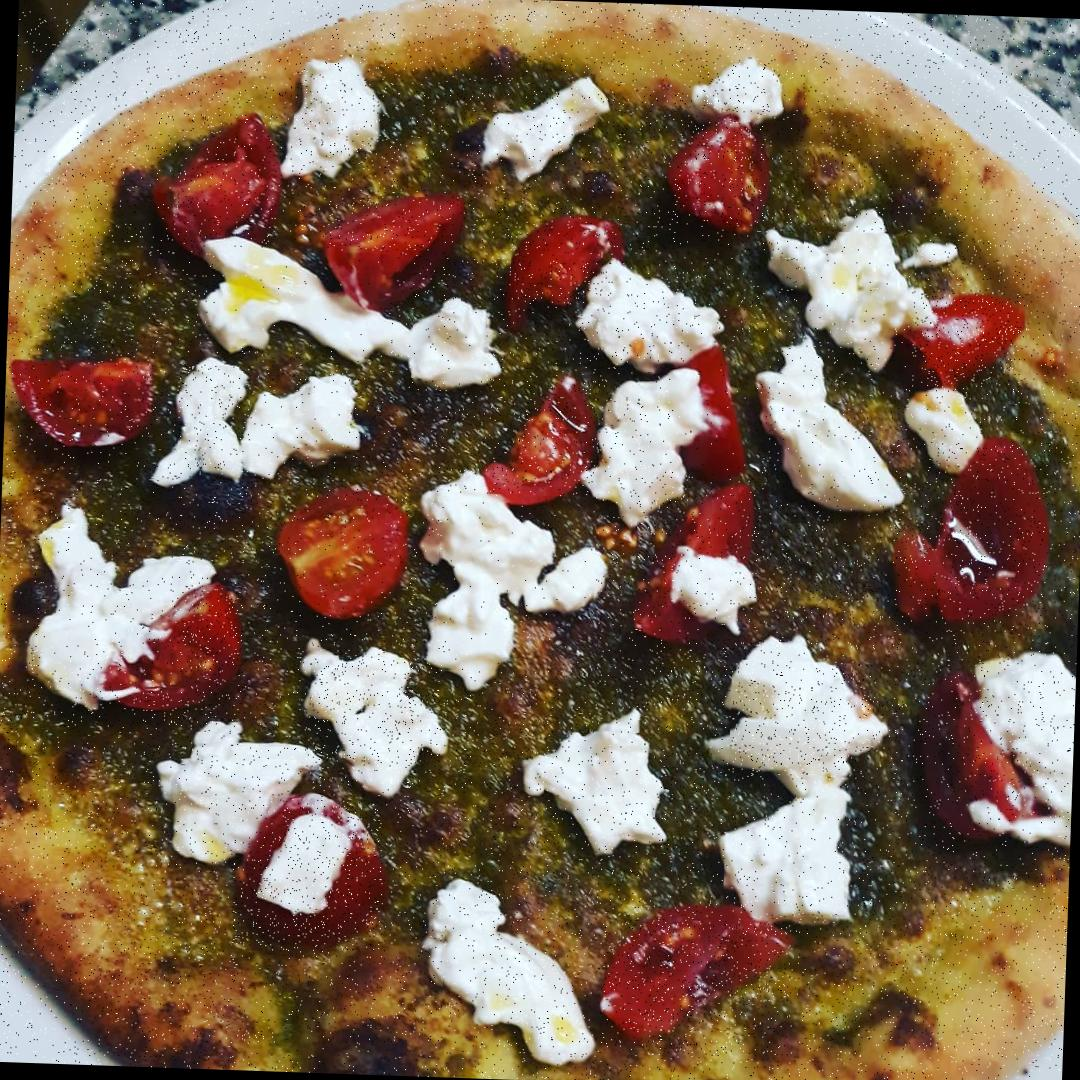Cheese: (435, 492, 597, 675), (38, 522, 186, 694), (440, 894, 576, 1056), (212, 246, 394, 356), (728, 660, 876, 780), (770, 362, 892, 503), (723, 796, 850, 917), (307, 655, 435, 773), (169, 730, 287, 854), (996, 671, 1076, 832), (801, 231, 917, 342), (543, 730, 658, 839), (293, 62, 390, 168), (483, 79, 602, 160), (248, 392, 350, 458), (176, 364, 239, 470), (603, 275, 684, 352), (412, 308, 488, 381), (704, 58, 780, 115), (622, 392, 626, 400)
Pizza: (0, 0, 1080, 1080)
Tomatoes: (894, 436, 1052, 623), (602, 904, 794, 1056), (232, 796, 385, 952), (91, 581, 244, 721), (634, 485, 766, 646), (912, 675, 1034, 844), (273, 481, 405, 613), (153, 112, 275, 254), (326, 194, 464, 314), (3, 352, 157, 450), (486, 378, 604, 502), (668, 342, 766, 475), (510, 215, 618, 320), (911, 288, 1022, 387), (671, 117, 765, 228)
